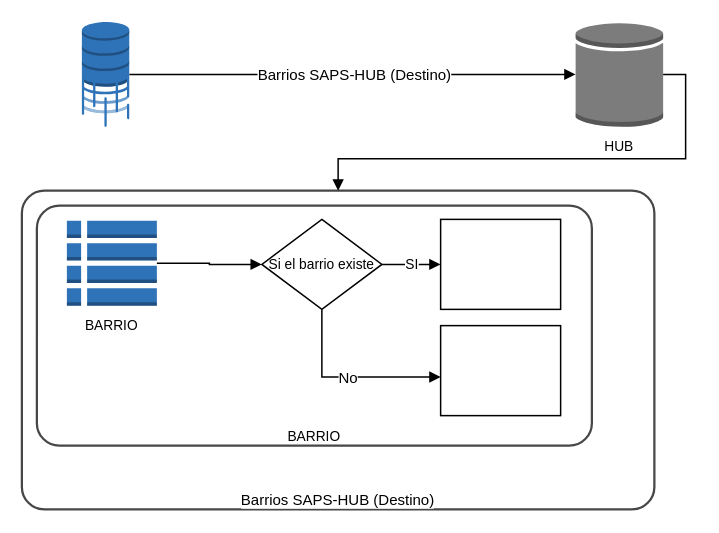
Some shapes in this 719 by 533 pixel diagram are drawn without their labels. The shapes that lost their labels are listed below. From the top down, each one's centre as x and y in pixels, then its label:
At (x=105, y=73): "HUBDATOS migration workflow/job".
At (x=500, y=264): "Actualiza".
At (x=500, y=370): "Inserta".
